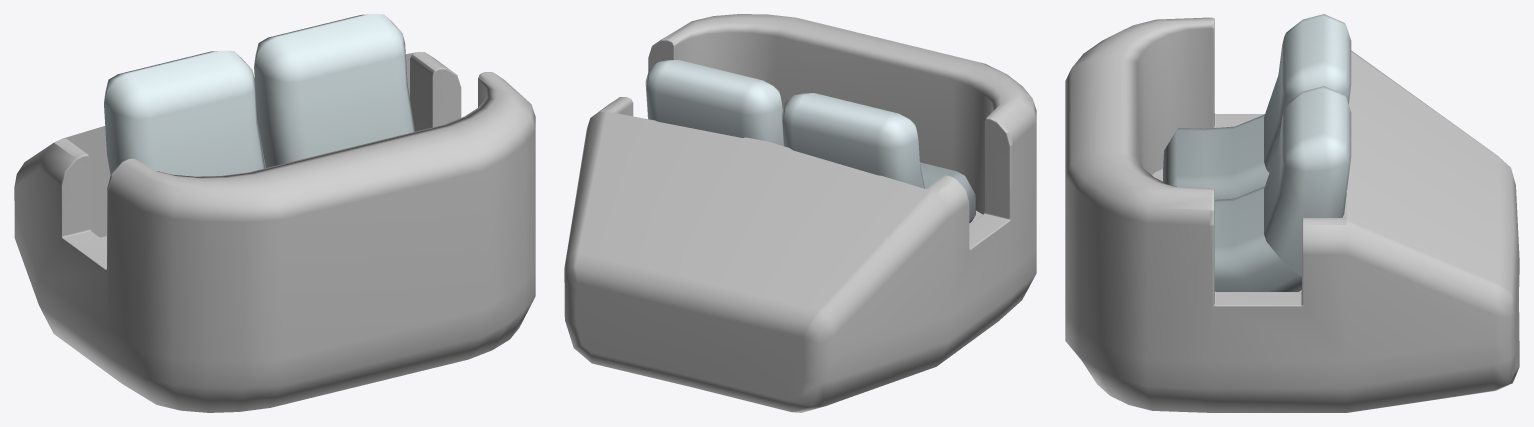
Rendered from Wegan Tail.fbx.
3 renders of one model, left to right at view 1: azimuth 30°, elevation 25°; view 2: azimuth 150°, elevation 25°; view 3: azimuth 270°, elevation 25°, orthographic. The views are drawn at different scales.
Visible parts, largest first — view 1: Wegan_Tail_3rd_Option; view 2: Wegan_Tail_3rd_Option; view 3: Wegan_Tail_3rd_Option.
Part boxes in pixels (x1,y1,x2,y2): Wegan_Tail_3rd_Option: [14, 14, 535, 412]; Wegan_Tail_3rd_Option: [564, 14, 1036, 412]; Wegan_Tail_3rd_Option: [1065, 14, 1519, 412].
Bounding box in the file's own units: 100 × 63.78 × 100.
